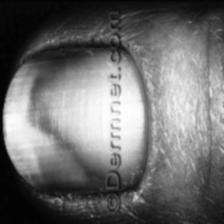Toxin: (7, 28, 147, 196)
